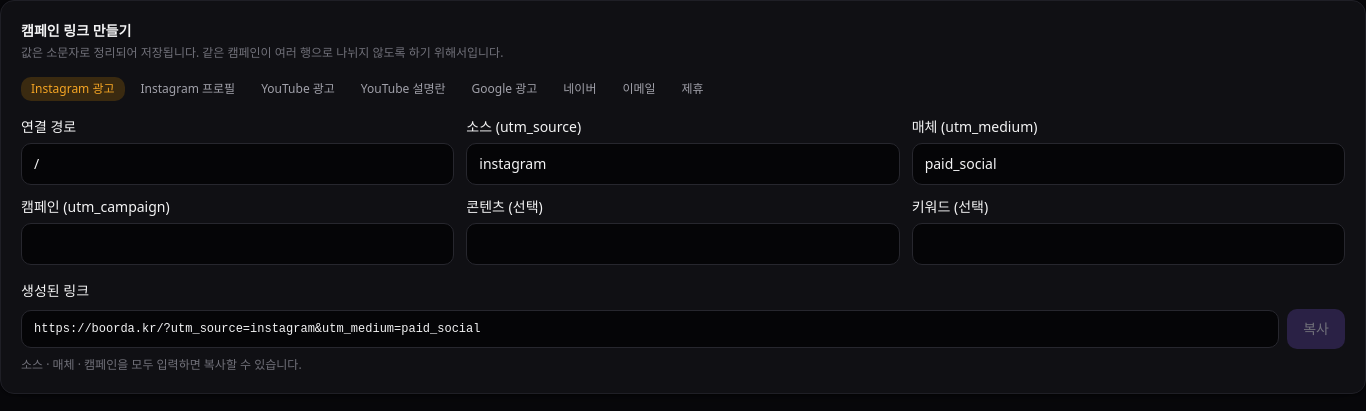
campaign link builder › offers presets that still produce standard parameters
Click the button "YouTube 광고" at x=298, y=89, box [251,77,345,101]
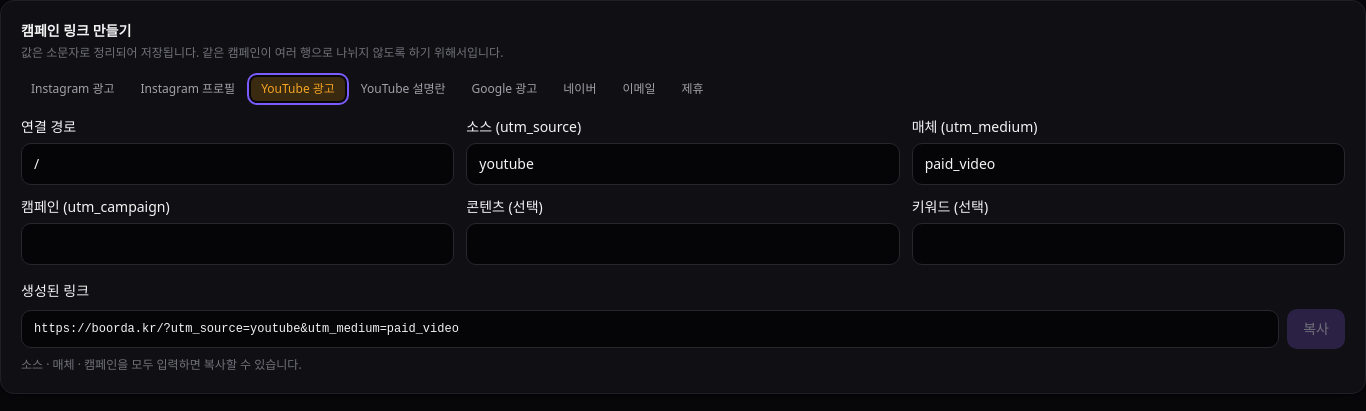
Expected: the field labelled "소스 (utm_source)" holds "youtube", [466,143,900,185]
Expected: the field labelled "매체 (utm_medium)" holds "paid_video", [912,143,1345,185]
